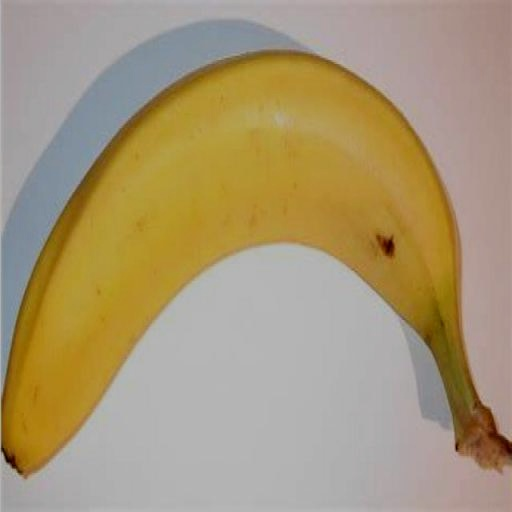fruit: (2, 52, 511, 475)
